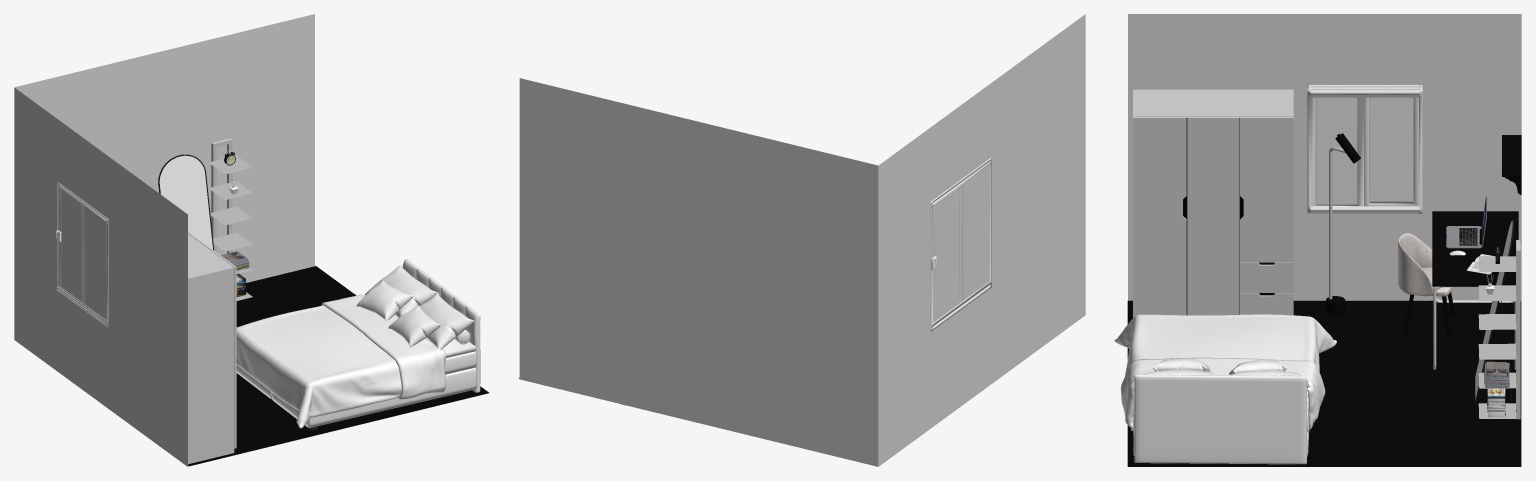
3 renders of one model, left to right at view 1: azimuth 30°, elevation 25°; view 2: azimuth 150°, elevation 25°; view 3: azimuth 270°, elevation 25°, orthographic. The views are drawn at different scales.
Visible parts, largest first — view 1: Plane, BedCover, Modern Wardrobe White, Plane.001, BedMain, Shatterproof Metal Full Length Mirror, PillowLarge, PillowSmall.001, PillowLarge.001, PillowSmall, Cube.019, Cube.018 (+1 smaller); view 2: Plane, Cube.019, Cube.018; view 3: Plane, Modern Wardrobe White, Plane.001, BedMain, BedCover, Cube.017, Cube.015, Table_top, Cube.019, Plane.002, Cube.018, Crane Floor Lamp (+13 smaller).
Boxes of the visible parts, bbox=[...] form: Plane: bbox=[14, 14, 487, 466]; BedCover: bbox=[236, 294, 445, 428]; Modern Wardrobe White: bbox=[188, 232, 236, 464]; Plane.001: bbox=[188, 266, 488, 466]; BedMain: bbox=[236, 259, 480, 430]; Shatterproof Metal Full Length Mirror: bbox=[158, 154, 214, 250]; PillowLarge: bbox=[420, 293, 474, 349]; PillowSmall.001: bbox=[356, 280, 413, 321]; PillowLarge.001: bbox=[365, 264, 437, 317]; PillowSmall: bbox=[388, 305, 440, 347]; Cube.019: bbox=[57, 182, 108, 327]; Cube.018: bbox=[59, 187, 84, 303]; Plane: bbox=[519, 14, 1085, 466]; Cube.019: bbox=[930, 157, 991, 331]; Cube.018: bbox=[933, 184, 962, 321]; Plane: bbox=[1128, 14, 1521, 466]; Modern Wardrobe White: bbox=[1133, 89, 1293, 317]; Plane.001: bbox=[1127, 300, 1521, 466]; BedMain: bbox=[1133, 374, 1309, 464]; BedCover: bbox=[1114, 314, 1336, 430]; Cube.017: bbox=[1310, 88, 1363, 206]; Cube.015: bbox=[1370, 98, 1412, 202]; Table_top: bbox=[1432, 211, 1518, 286]; Cube.019: bbox=[1307, 84, 1422, 213]; Plane.002: bbox=[1398, 233, 1455, 338]; Cube.018: bbox=[1364, 97, 1418, 206]; Crane Floor Lamp: bbox=[1326, 133, 1360, 315].
Size of the model in its own units: 2.03 by 1.61 by 2.07.
Materials: 50 (14 with a texture image).
